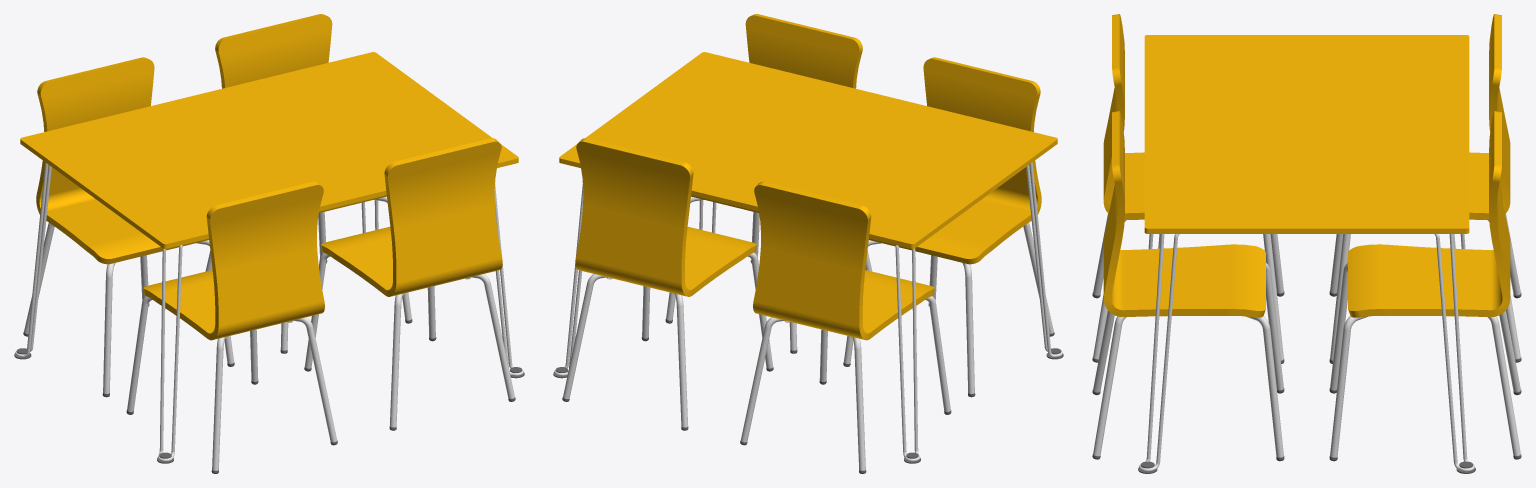
File: table_chair_set.glb
3 views of the same model, side by side, from view 1: azimuth 30°, elevation 25°; view 2: azimuth 150°, elevation 25°; view 3: azimuth 270°, elevation 25° (orthographic). The views are drawn at different scales.
Visible parts, largest first — view 1: Body1, Body1_73, Body1_93, Body1_53, Body1_33, Body1_86, Body1_13, Body1_66, Body1_8, Body1_67, Body1_87, Body1_47 (+2 smaller); view 2: Body1, Body1_33, Body1_53, Body1_93, Body1_73, Body1_47, Body1_8, Body1_27, Body1_13, Body1_46, Body1_26, Body1_86 (+2 smaller); view 3: Body1, Body1_33, Body1_73, Body1_93, Body1_53, Body1_5, Body1_12, Body1_27, Body1_66, Body1_26, Body1_67, Body1_46 (+3 smaller).
Boxes of the visible parts, left/top/right/bottom form: Body1: left=20, top=52, right=518, bottom=248; Body1_73: left=321, top=138, right=502, bottom=296; Body1_93: left=143, top=181, right=324, bottom=340; Body1_53: left=36, top=57, right=208, bottom=264; Body1_33: left=215, top=14, right=386, bottom=212; Body1_86: left=127, top=296, right=337, bottom=442; Body1_13: left=157, top=245, right=182, bottom=461; Body1_66: left=304, top=252, right=514, bottom=398; Body1_8: left=15, top=162, right=51, bottom=357; Body1_67: left=389, top=286, right=435, bottom=427; Body1_87: left=212, top=329, right=258, bottom=470; Body1_47: left=103, top=255, right=149, bottom=393; Body1: left=559, top=52, right=1057, bottom=248; Body1_33: left=575, top=138, right=756, bottom=296; Body1_53: left=753, top=181, right=934, bottom=340; Body1_93: left=869, top=57, right=1041, bottom=264; Body1_73: left=691, top=14, right=862, bottom=212; Body1_47: left=740, top=296, right=950, bottom=442; Body1_8: left=895, top=245, right=920, bottom=461; Body1_27: left=563, top=252, right=773, bottom=398; Body1_13: left=1026, top=162, right=1062, bottom=357; Body1_46: left=819, top=329, right=865, bottom=470; Body1_26: left=642, top=286, right=688, bottom=427; Body1_86: left=928, top=255, right=974, bottom=393; Body1: left=1144, top=35, right=1469, bottom=233; Body1_33: left=1348, top=111, right=1510, bottom=317; Body1_73: left=1103, top=111, right=1265, bottom=317; Body1_93: left=1103, top=14, right=1144, bottom=220; Body1_53: left=1469, top=14, right=1510, bottom=220; Body1_5: left=1434, top=234, right=1474, bottom=471; Body1_12: left=1139, top=234, right=1179, bottom=471; Body1_27: left=1330, top=263, right=1520, bottom=456; Body1_66: left=1093, top=263, right=1283, bottom=456; Body1_26: left=1330, top=311, right=1520, bottom=457; Body1_67: left=1093, top=311, right=1283, bottom=457; Body1_46: left=1330, top=214, right=1520, bottom=360.
Size of the model in its own units: 12.33 by 8.33 by 11.22.
